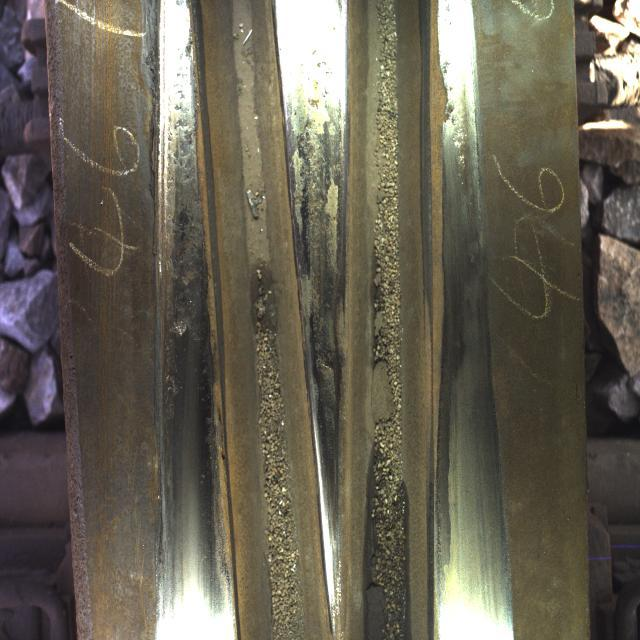crack: (46, 0, 149, 576)
scar: (437, 21, 495, 384), (155, 25, 205, 401)
